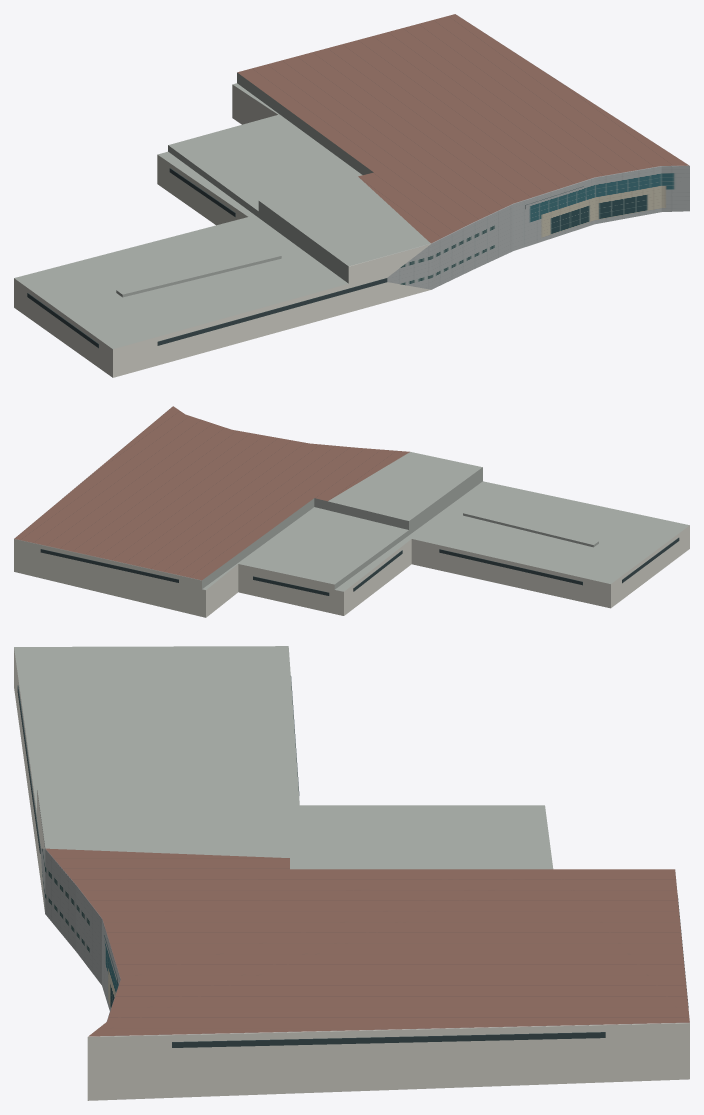
The model's file is intact.glb.
3 views of the same model, one above another, from view 1: azimuth 30°, elevation 25°; view 2: azimuth 150°, elevation 25°; view 3: azimuth 270°, elevation 25° (orthographic). The views are drawn at different scales.
Visible parts, largest first — view 1: SM_gym2_Intact_00; view 2: SM_gym2_Intact_00; view 3: SM_gym2_Intact_00.
Part boxes in pixels (left/top/right/bottom): SM_gym2_Intact_00: left=14, top=14, right=689, bottom=377; SM_gym2_Intact_00: left=14, top=406, right=689, bottom=617; SM_gym2_Intact_00: left=14, top=646, right=689, bottom=1100.
Bounding box in the file's own units: 2.2 × 0.1677 × 1.51.
5 materials, 1 textured.
